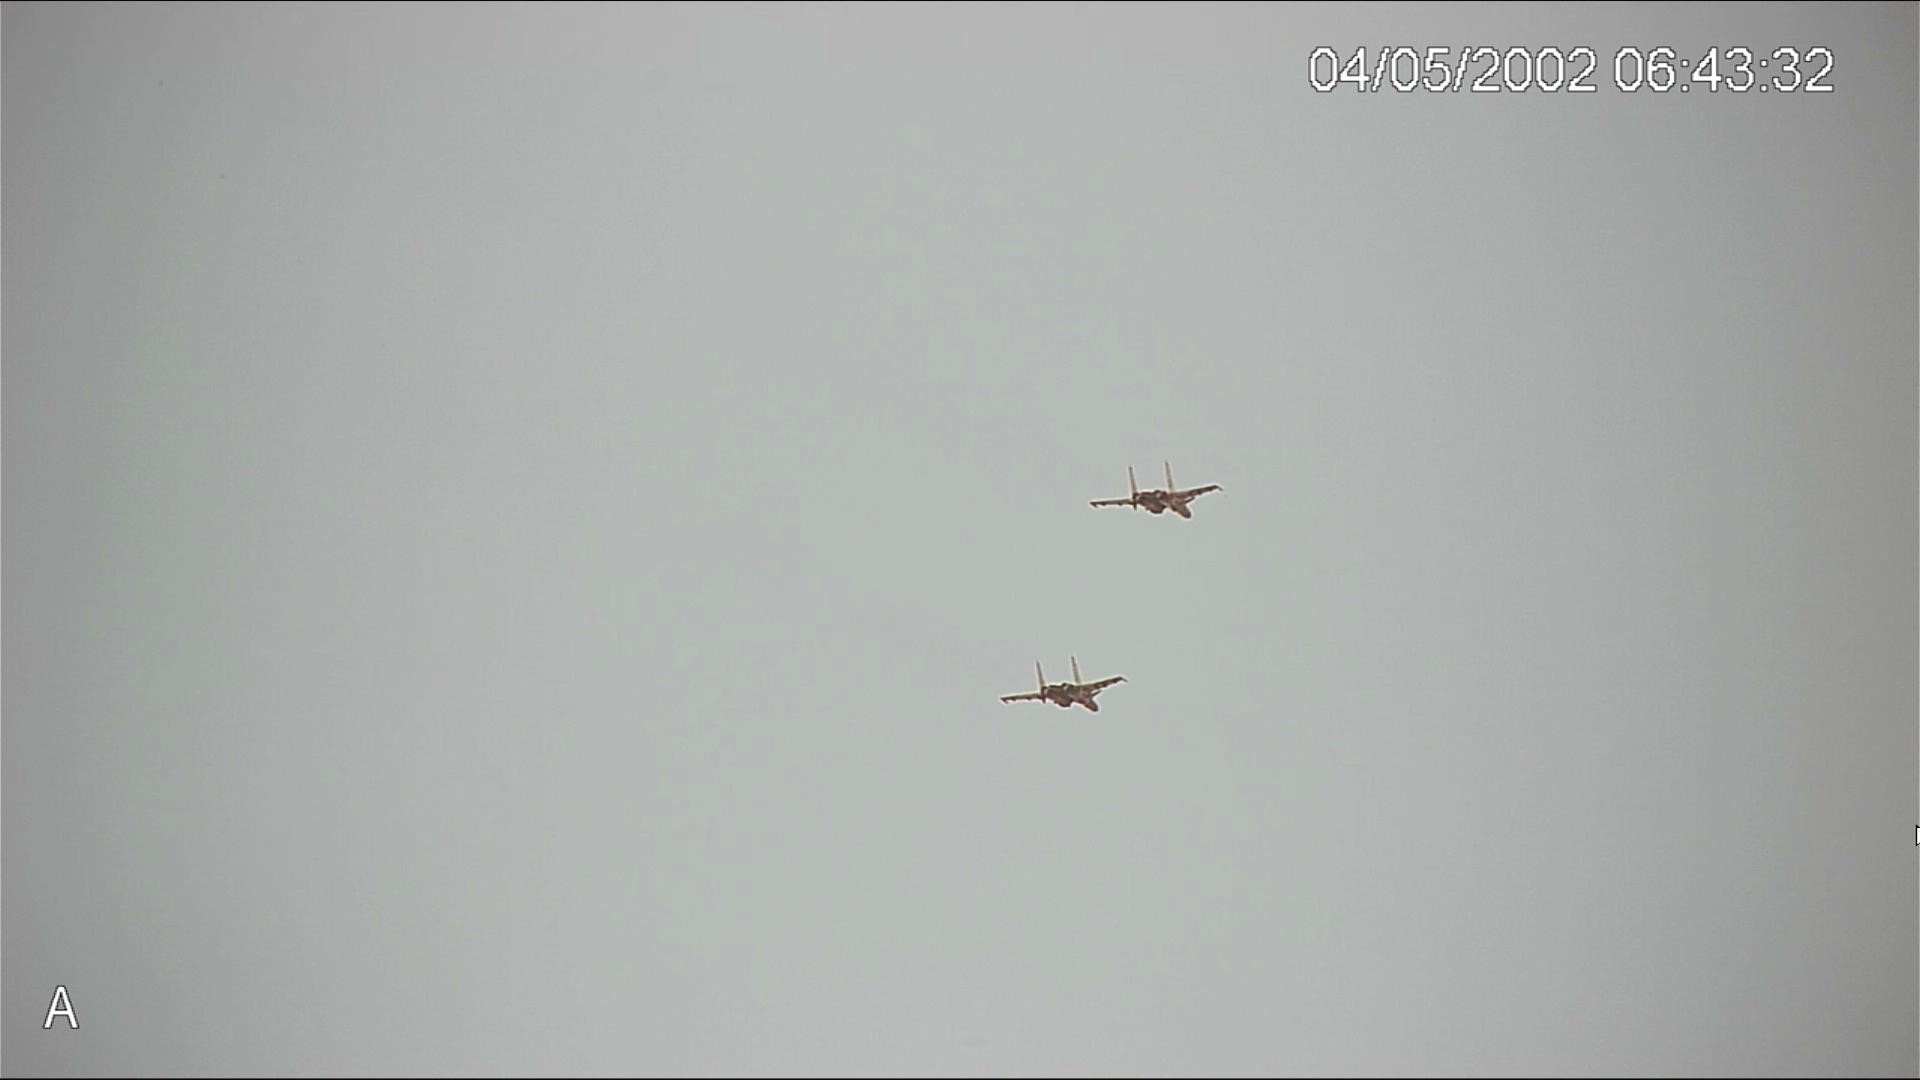SU_30: (1091, 463, 1232, 521), (1002, 659, 1135, 712)
